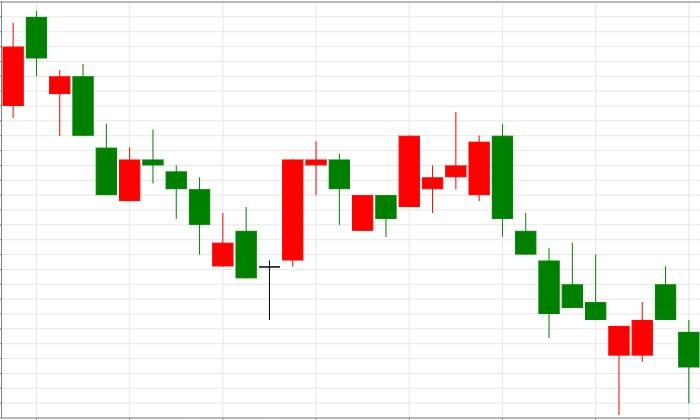bearish_engulfing_fall: (351, 111, 514, 238)
evening_star_fall: (258, 141, 351, 321)
hammer_rise: (491, 124, 630, 415)
morning_star_rise: (25, 11, 305, 321)
three_black_crows_fall: (351, 111, 561, 337)
